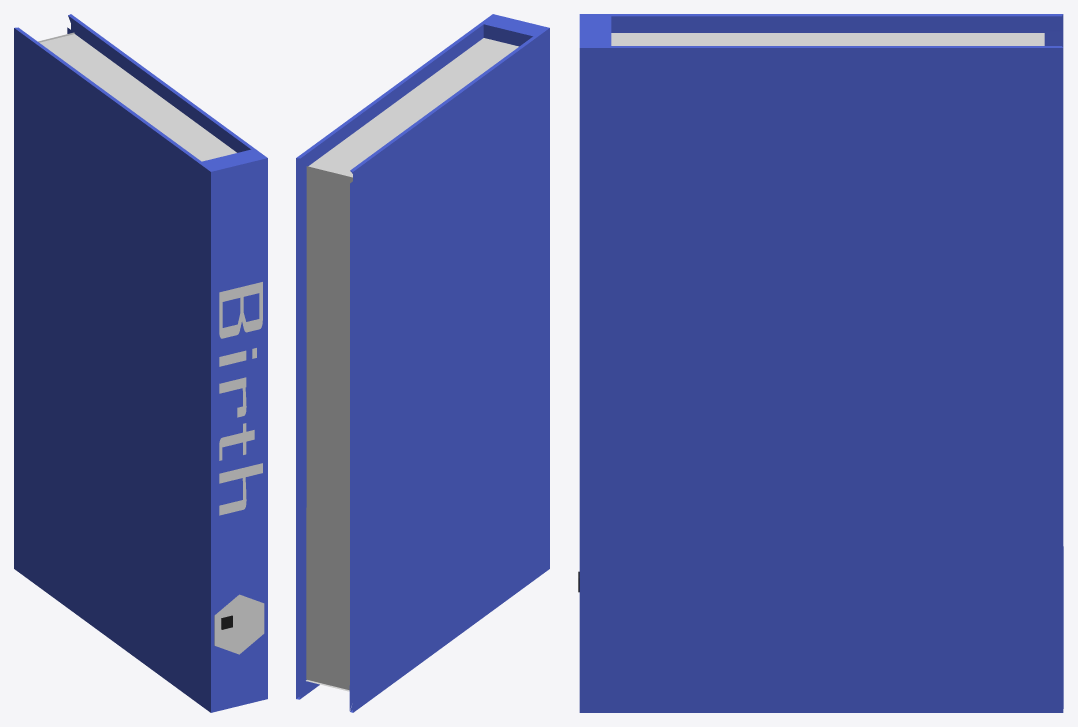
The model's file is Book_Birth.fbx.
3 renders of one model, left to right at view 1: azimuth 30°, elevation 25°; view 2: azimuth 150°, elevation 25°; view 3: azimuth 270°, elevation 25°, orthographic. The views are drawn at different scales.
Visible parts, largest first — view 1: Book, Text, Cylinder; view 2: Book; view 3: Book.
Boxes of the visible parts, <box> form: Book: <box>14,14,267,712</box>; Text: <box>219,282,262,515</box>; Cylinder: <box>214,594,264,654</box>; Book: <box>296,14,549,712</box>; Book: <box>579,14,1063,712</box>.
Bounding box in the file's own units: 6.67 × 60.59 × 40.09.
